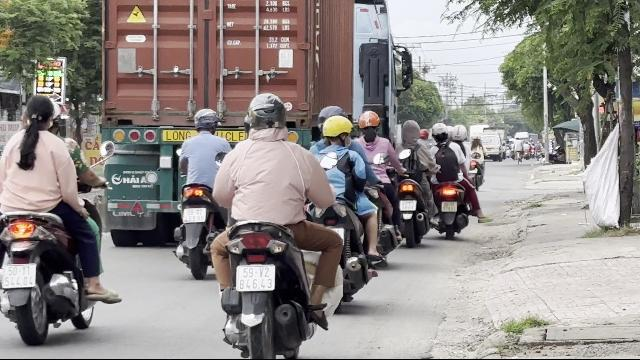helmet: (244, 92, 288, 136), (320, 114, 352, 144), (192, 108, 220, 134), (357, 110, 381, 138), (400, 118, 420, 142), (430, 122, 450, 142), (450, 124, 468, 140)
licenseplate: (236, 265, 274, 291), (2, 264, 36, 288), (183, 208, 205, 224), (441, 200, 457, 211), (400, 201, 416, 211)
motorcyclist: (204, 92, 350, 356), (0, 86, 116, 344), (309, 105, 389, 305), (173, 106, 230, 278), (353, 108, 403, 268), (428, 121, 484, 240), (394, 115, 434, 244)
nohelmet: (21, 93, 57, 131)
